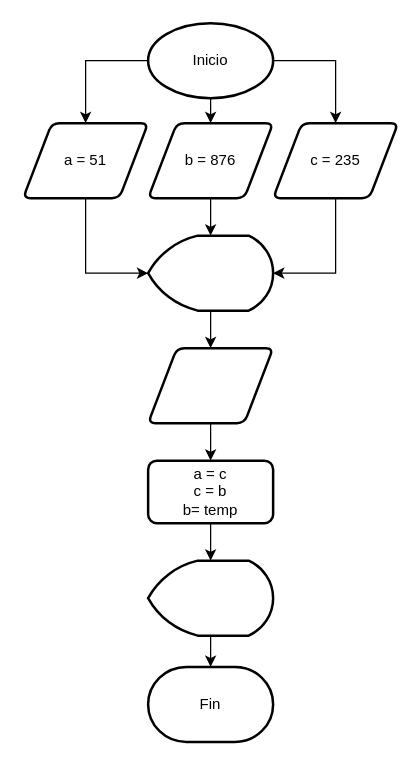
The diagram is 420 pixels wide and 764 high, and some of its shapes have lost their labels. Here are the shapes that lost their labels. From the top down, the centre of each, then its label:
At pixel 210 272: "Valores actuales a=51, b=876, c=235".
At pixel 210 385: "temp = a".
At pixel 210 597: "valores tras la permutación".
